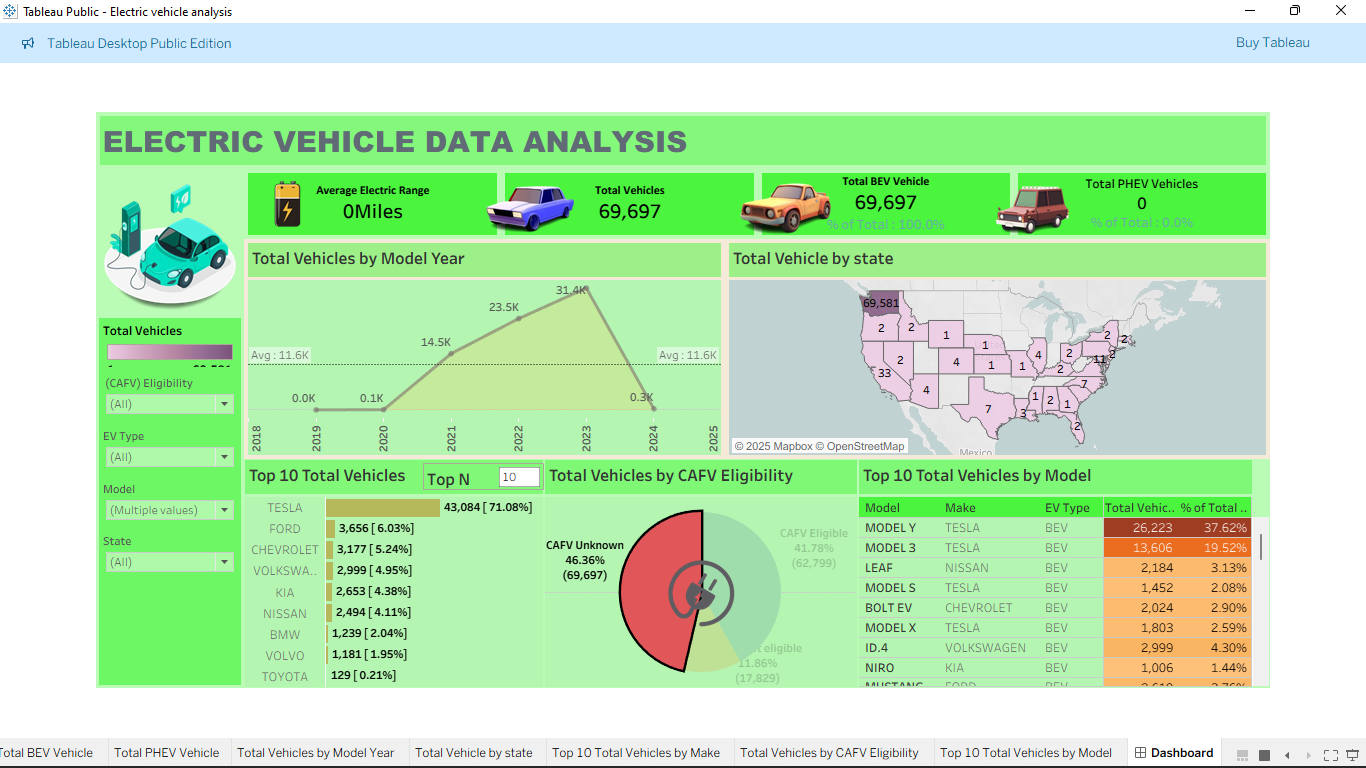

The dashboard page shown, as its layout file describes it:
{"tool":"tableau","page":{"name":"Dashboard","canvas":[1176,578],"ordinal":0},"visuals":[{"type":"title","box":[1,1,1174,57.4]},{"type":"image","param":"D:/POWERBI/icons/Жигули-removebg-preview.png","box":[334,28,206,125]},{"type":"image","param":"D:/POWERBI/icons/미드저니_프롬프트___-removebg-preview.png","box":[605,39,172,111]},{"type":"image","param":"D:/POWERBI/icons/Low_poly_Car_01-removebg-preview.png","box":[844,43,190,114]},{"type":"image","param":"D:/POWERBI/icons/Battery_vector-removebg-preview.png","box":[146,50,92,86]},{"type":"worksheet","title":"Average Electric Range","mark":"Automatic","box":[149,58,257,70]},{"type":"worksheet","title":"Total Vehicles","mark":"Automatic","box":[406,58,257,70]},{"type":"worksheet","title":"Total BEV Vehicle ","mark":"Automatic","box":[663,58,256,70]},{"type":"worksheet","title":"Total PHEV Vehicle","mark":"Automatic","box":[919,58,256,70]},{"type":"image","param":"D:/POWERBI/icons/Free_Vector___Electric_car_concept_illustration-removebg-previe","box":[1,58.4,148,145.6]},{"type":"worksheet","title":"Total Vehicles by Model Year","mark":"Line","rows":["Calculation_1005147195562500096","Calculation_1005147195562500096"],"cols":["Model Year"],"box":[149,128.1,481,219.9]},{"type":"worksheet","title":"Total Vehicle by state","mark":"Multipolygon","box":[630,128.1,545,219.9]},{"type":"legend","title":"Total Vehicle by state","param":"[federated.1dx35o3062qynq1dru3qi1caghq3].[usr:Calculation_1005147195562500096:qk","box":[4,207,142,53]},{"type":"filter","title":"Total Vehicles by Model Year","param":"[federated.1dx35o3062qynq1dru3qi1caghq3].[none:Clean Alternative Fuel Vehicle (C","box":[4,260,142,53]},{"type":"filter","title":"Total Vehicles by Model Year","param":"[federated.1dx35o3062qynq1dru3qi1caghq3].[none:Electric Vehicle Type:nk]","box":[4,313,142,53]},{"type":"worksheet","title":"Top 10 Total Vehicles by Make","mark":"Automatic","rows":["Make"],"cols":["Calculation_1005147195562500096"],"box":[149,348,300,229]},{"type":"worksheet","title":"Total Vehicles by CAFV Eligibility","mark":"Pie","rows":["Calculation_333547901182341121","Calculation_333547901182341121"],"box":[449,348,314,229]},{"type":"worksheet","title":"Top 10 Total Vehicles by Model","mark":"Square","rows":["Model","Make","Electric Vehicle Type"],"box":[763,348,412,229]},{"type":"parameter","param":"[Parameters].[Parameter 2]","box":[328,352,121,27]},{"type":"filter","title":"Total Vehicles by Model Year","param":"[federated.1dx35o3062qynq1dru3qi1caghq3].[none:Model:nk]","box":[4,366,142,52]},{"type":"image","param":"D:/POWERBI/icons/Baixar_projeto_do_vetor_do_símbolo_do_ícone_do_soquete_do_plugu","box":[531,394,150,177]},{"type":"filter","title":"Total Vehicles by Model Year","param":"[federated.1dx35o3062qynq1dru3qi1caghq3].[none:State:nk]","box":[4,418,142,52]},{"type":"blank","box":[4,470,142,52]},{"type":"blank","box":[4,522,142,52]}]}

Visuals, with their boxes on the page's 1176x578 design canvas (x1, y1, x2, y2). These are canvas units, not pixel positions in the 1366x768 screenshot, which may show the page scaled, cropped or inside an application window:
title: Rect(1, 1, 1175, 58)
image: Rect(334, 28, 540, 153)
image: Rect(605, 39, 777, 150)
image: Rect(844, 43, 1034, 157)
image: Rect(146, 50, 238, 136)
"Average Electric Range" worksheet: Rect(149, 58, 406, 128)
"Total Vehicles" worksheet: Rect(406, 58, 663, 128)
"Total BEV Vehicle " worksheet: Rect(663, 58, 919, 128)
"Total PHEV Vehicle" worksheet: Rect(919, 58, 1175, 128)
image: Rect(1, 58, 149, 204)
"Total Vehicles by Model Year" worksheet (Line marks): Rect(149, 128, 630, 348)
"Total Vehicle by state" worksheet (Multipolygon marks): Rect(630, 128, 1175, 348)
"Total Vehicle by state" legend: Rect(4, 207, 146, 260)
"Total Vehicles by Model Year" filter: Rect(4, 260, 146, 313)
"Total Vehicles by Model Year" filter: Rect(4, 313, 146, 366)
"Top 10 Total Vehicles by Make" worksheet: Rect(149, 348, 449, 577)
"Total Vehicles by CAFV Eligibility" worksheet (Pie marks): Rect(449, 348, 763, 577)
"Top 10 Total Vehicles by Model" worksheet (Square marks): Rect(763, 348, 1175, 577)
parameter: Rect(328, 352, 449, 379)
"Total Vehicles by Model Year" filter: Rect(4, 366, 146, 418)
image: Rect(531, 394, 681, 571)
"Total Vehicles by Model Year" filter: Rect(4, 418, 146, 470)
blank: Rect(4, 470, 146, 522)
blank: Rect(4, 522, 146, 574)
